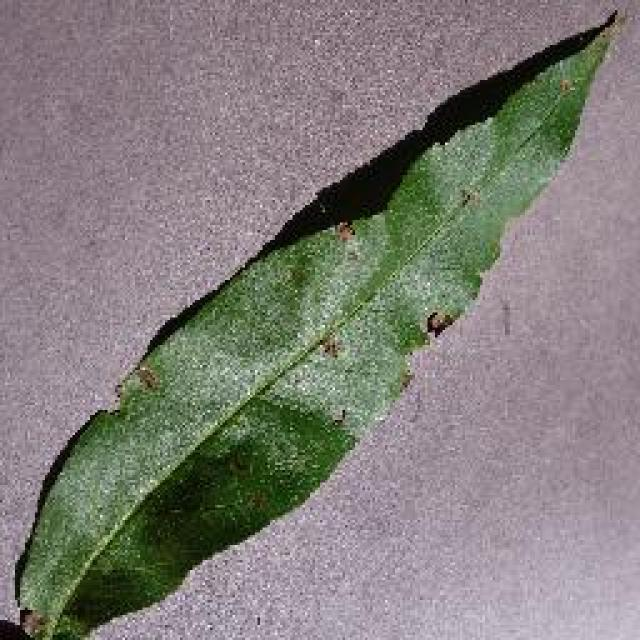Peach_Bacterial_Spot: (233, 176, 462, 436)
